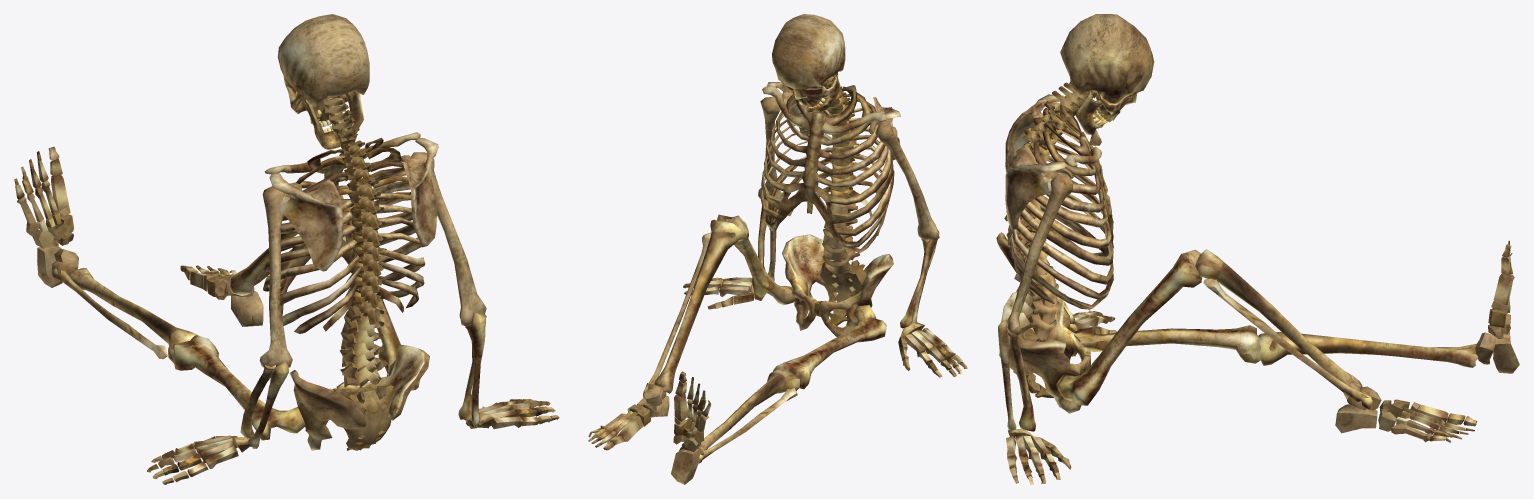
The model's file is Skeleton_Seated.glb.
3 views of the same model, side by side, from view 1: azimuth 30°, elevation 25°; view 2: azimuth 150°, elevation 25°; view 3: azimuth 270°, elevation 25° (orthographic). The views are drawn at different scales.
Visible parts, largest first — view 1: Skeleton_Seated; view 2: Skeleton_Seated; view 3: Skeleton_Seated.
Boxes of the visible parts, x1,y1,x2,y2 form: Skeleton_Seated: (14,14,559,484); Skeleton_Seated: (588,14,967,484); Skeleton_Seated: (996,14,1519,484).
Bounding box in the file's own units: 0.9888 × 1.05 × 1.29.
3 materials, 3 textured.
